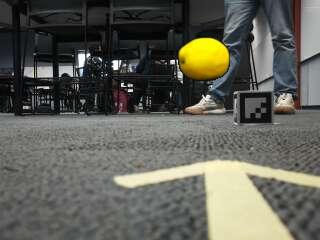lemon: (178, 38, 229, 79)
